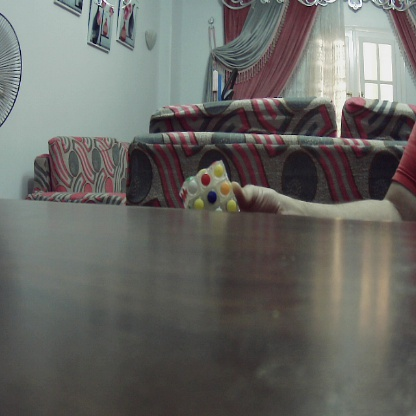Rubix Cube: (181, 160, 241, 211)
